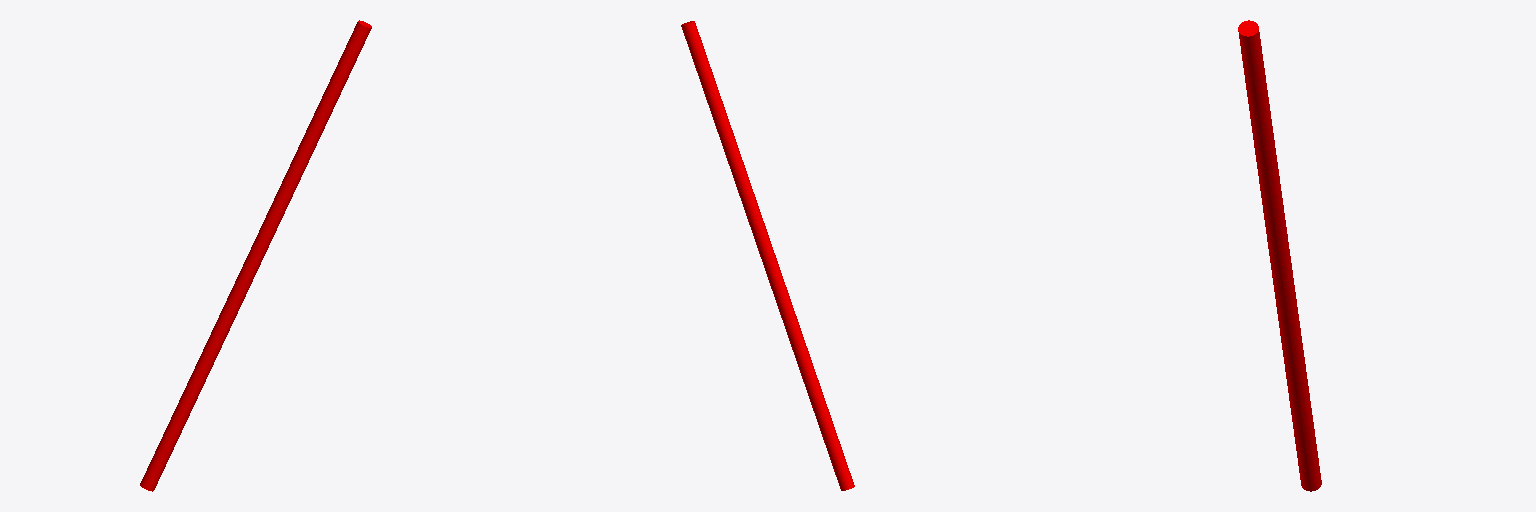
URDF robot description (tree_87.urdf):
<?xml version='1.0' encoding='utf-8'?>
<robot name="tree_87.urdf">
  <link name="branch_0">
    <inertial>
      <origin xyz="0.0 0.0 0.0" rpy="0.0 -0.0 0.0" />
      <mass value="1.0" />
      <inertia ixx="1.0" ixy="0.0" ixz="0.0" iyy="1.0" iyz="0.0" izz="1.0" />
    </inertial>
    <visual name="branch_0_visual">
      <geometry>
        <cylinder radius="0.05660818734013448" length="3.865158439910788" />
      </geometry>
      <material name="semantic_material" />
      <origin xyz="0.8193007974230483 -0.17050740283132798 1.7419919260217802" rpy="0.0 0.4478460695485618 -0.2051845113129238" />
    </visual>
    <collision name="branch_0_collision">
      <geometry>
        <cylinder radius="0.05660818734013448" length="3.865158439910788" />
      </geometry>
      <origin xyz="0.8193007974230483 -0.17050740283132798 1.7419919260217802" rpy="0.0 0.4478460695485618 -0.2051845113129238" />
    </collision>
  </link>
  <material name="semantic_material">
    <color rgba="1. 0. 0. 1." />
  </material>
</robot>

--- What the picture shows (computed from the rendered views, not written in the file) ---
Views: 3 orthographic renders of the robot side by side, from view 1: azimuth 30°, elevation 25°; view 2: azimuth 150°, elevation 25°; view 3: azimuth 270°, elevation 25°.
Robot: tree_87.urdf — 1 links, 0 joints (none); root link branch_0; default pose: every joint at zero.
Visible links, largest first — view 1: branch_0; view 2: branch_0; view 3: branch_0.
Boxes of the visible links, x1=… form: branch_0: x1=140, y1=20, x2=371, y2=491; branch_0: x1=681, y1=21, x2=854, y2=490; branch_0: x1=1238, y1=20, x2=1321, y2=491.
Size in the robot's own frame: 1.74 by 0.4538 by 3.53 metres.
Geometry: primitives only (box / cylinder / sphere), no mesh files.
